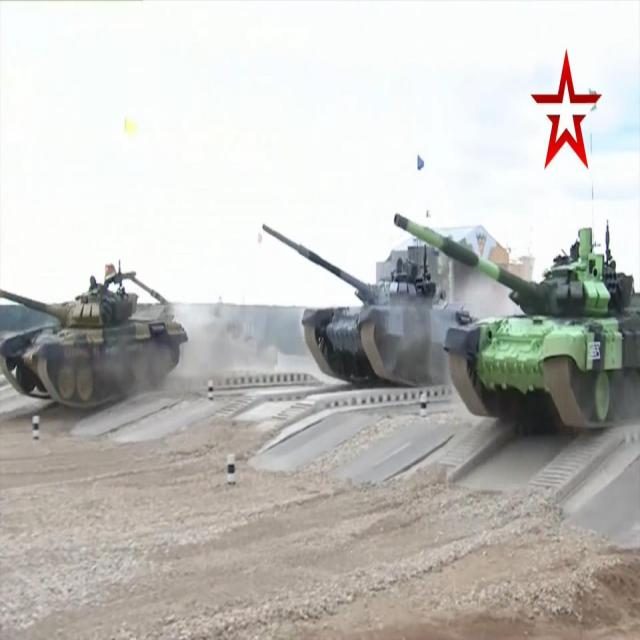Tanks: (448, 238, 633, 471), (9, 261, 186, 438)
